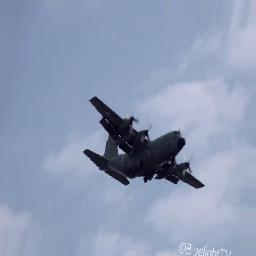Airplane: (82, 95, 205, 191)
